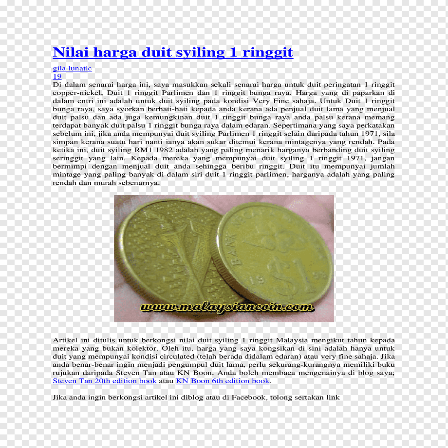1r: (116, 199, 253, 317), (211, 201, 333, 311)
